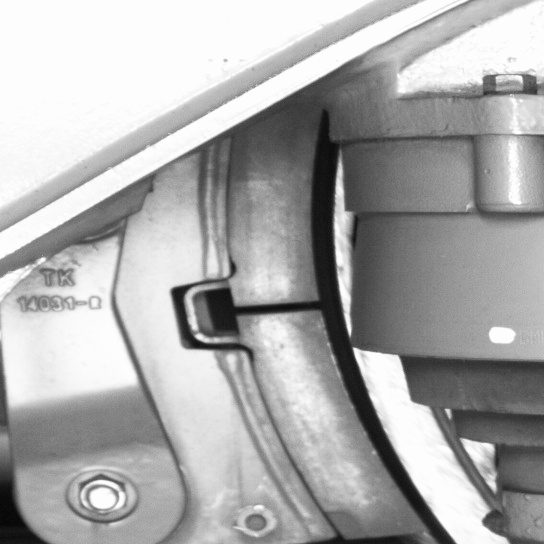KnifeSwitch: (245, 137, 452, 541)
